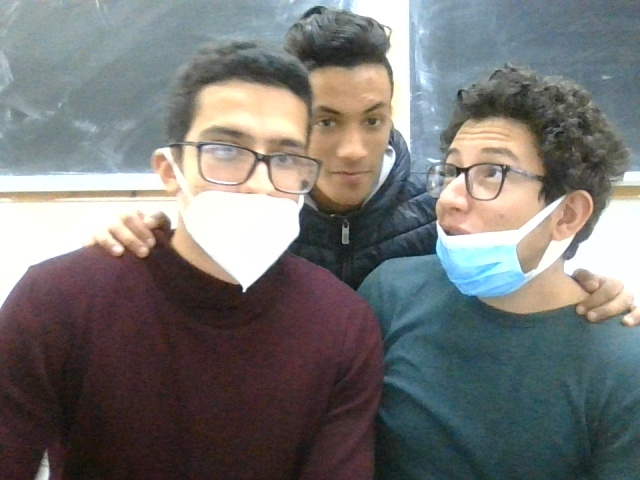mask_weared_incorrect: (421, 53, 625, 296), (152, 45, 307, 298)
without_mask: (297, 16, 401, 209)
